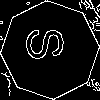S: (25, 25, 74, 62)
